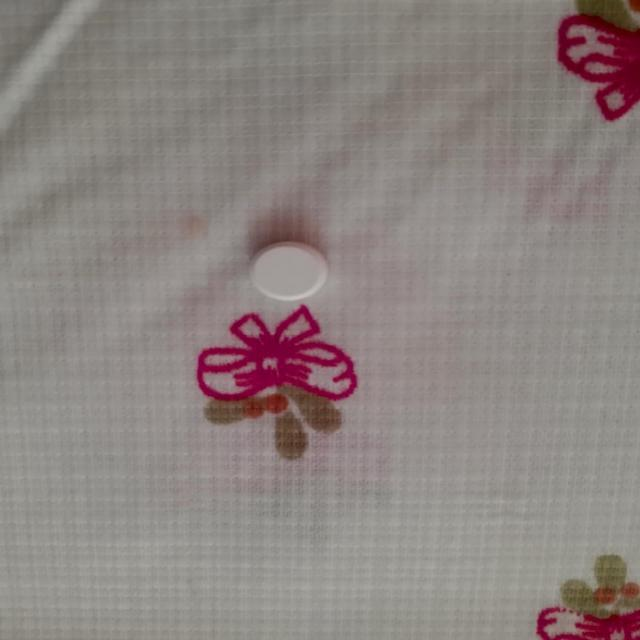pill: (248, 238, 328, 304)
